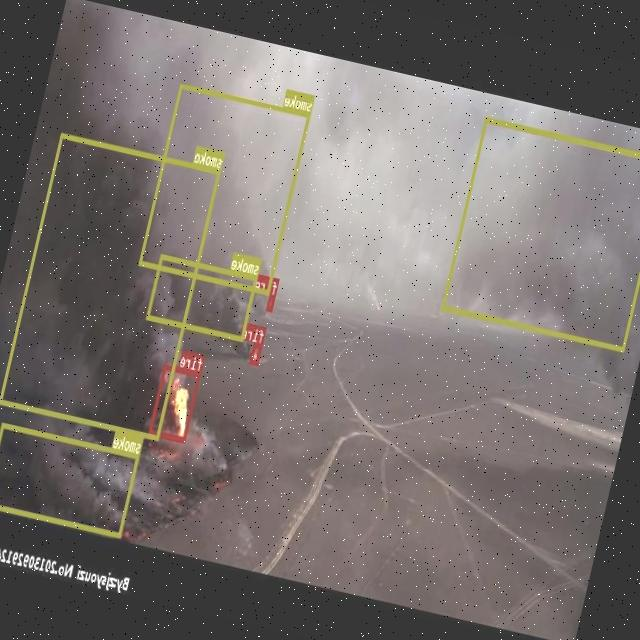fire: (149, 363, 202, 441), (250, 342, 263, 364), (267, 294, 276, 310)
smoke: (0, 132, 221, 439), (442, 116, 640, 351), (139, 82, 311, 293), (0, 422, 140, 537), (147, 253, 258, 340)
